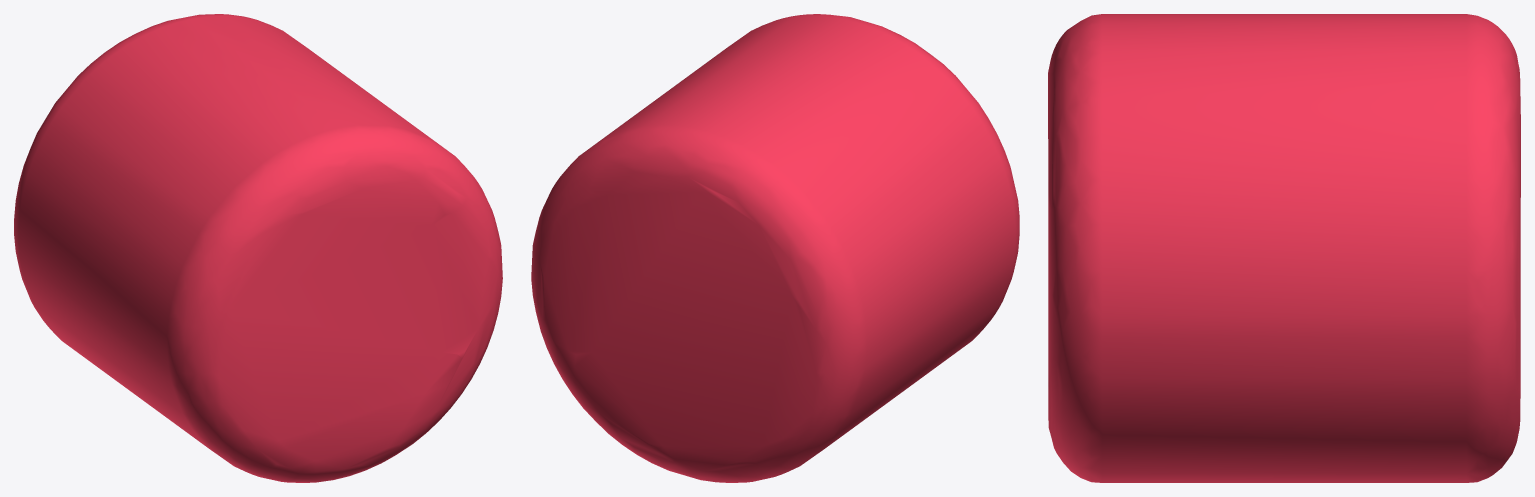
File: high_cylinder_forward_low.obj
3 views of the same model, side by side, from view 1: azimuth 30°, elevation 25°; view 2: azimuth 150°, elevation 25°; view 3: azimuth 270°, elevation 25° (orthographic). The views are drawn at different scales.
Visible parts, largest first — view 1: Cube_Cube_Material_Cube_Cube_Material_Material.001_Cube_Cub.000; view 2: Cube_Cube_Material_Cube_Cube_Material_Material.001_Cube_Cub.000; view 3: Cube_Cube_Material_Cube_Cube_Material_Material.001_Cube_Cub.000.
Boxes of the visible parts, x1,y1,x2,y2 form: Cube_Cube_Material_Cube_Cube_Material_Material.001_Cube_Cub.000: [14, 14, 502, 482]; Cube_Cube_Material_Cube_Cube_Material_Material.001_Cube_Cub.000: [531, 14, 1019, 482]; Cube_Cube_Material_Cube_Cube_Material_Material.001_Cube_Cub.000: [1048, 14, 1520, 482].
Size of the model in its own units: 1.96 by 1.96 by 1.98.
Materials: 1 (1 with a texture image).
